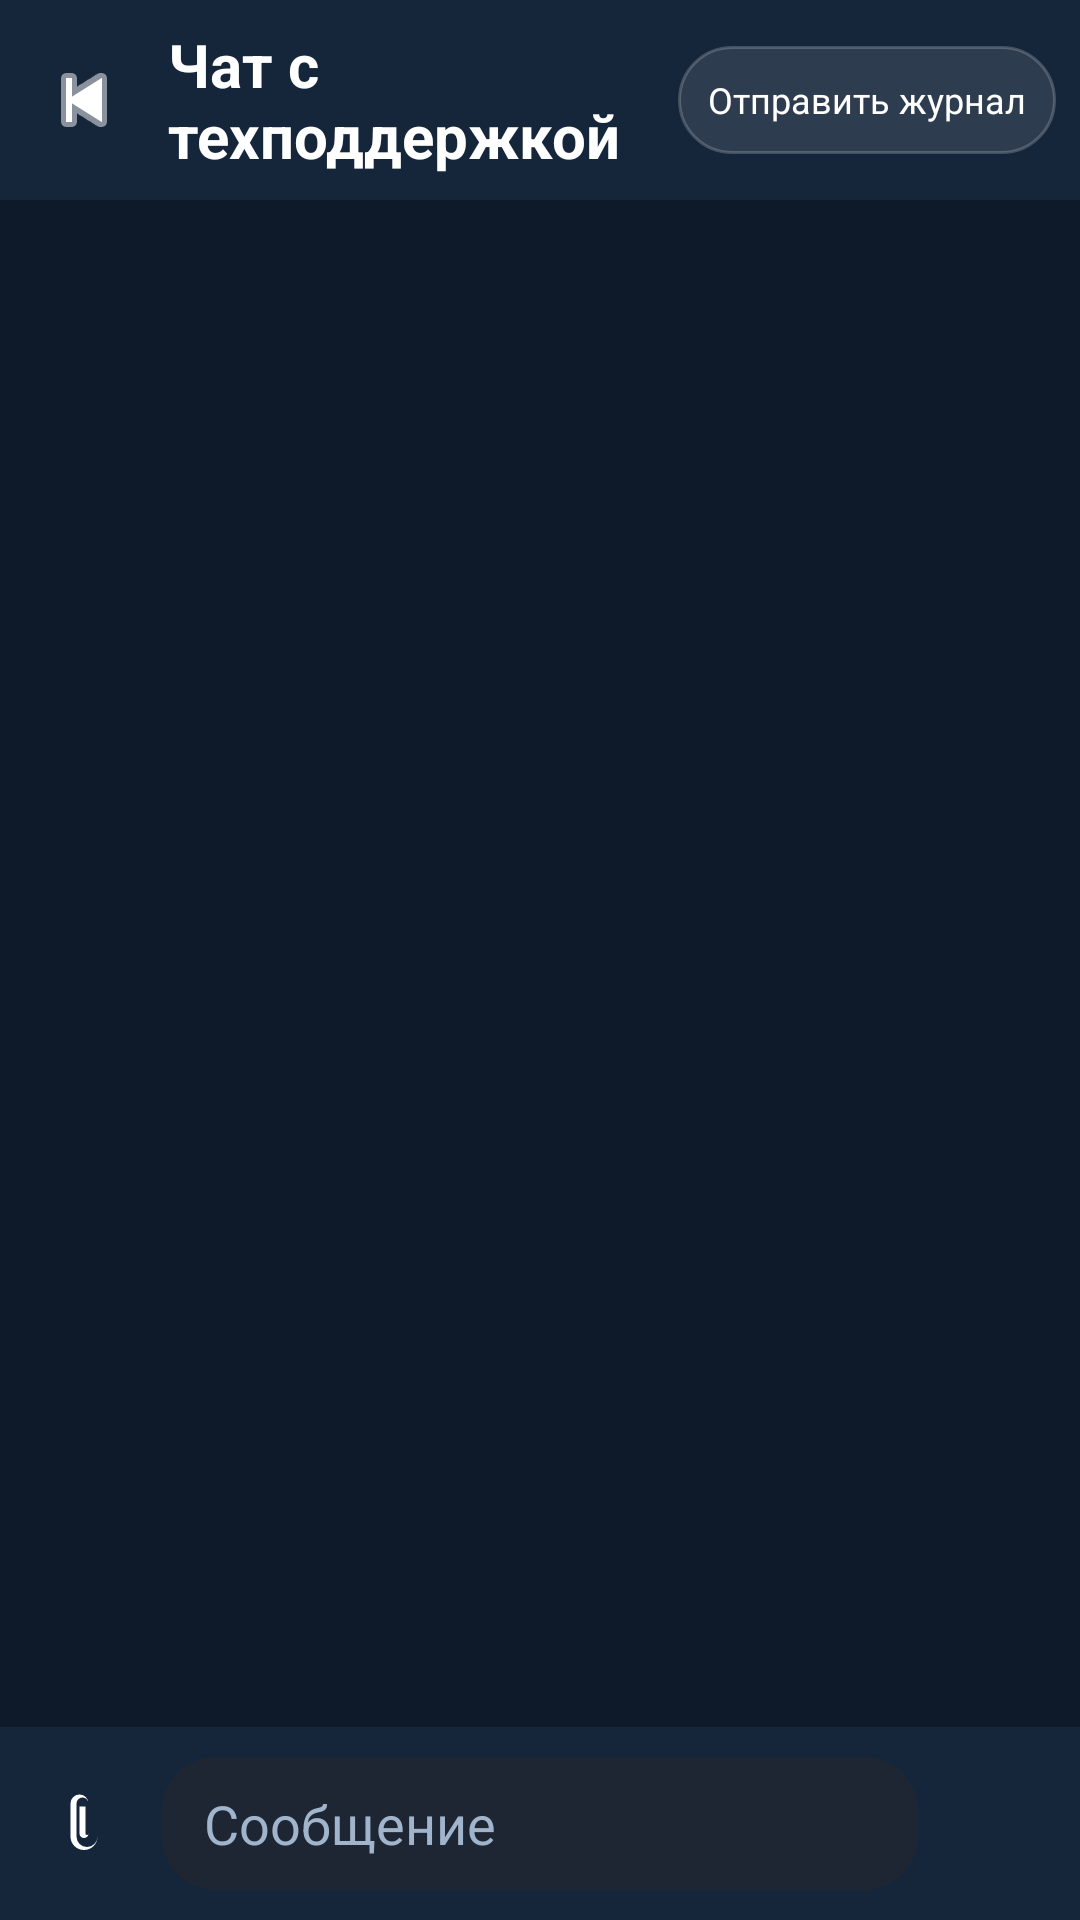

Point at icon controls on the screen. Image size 1080*1920, points as point (x, y).
Attach: point (84, 1822)
Back: point (84, 100)
